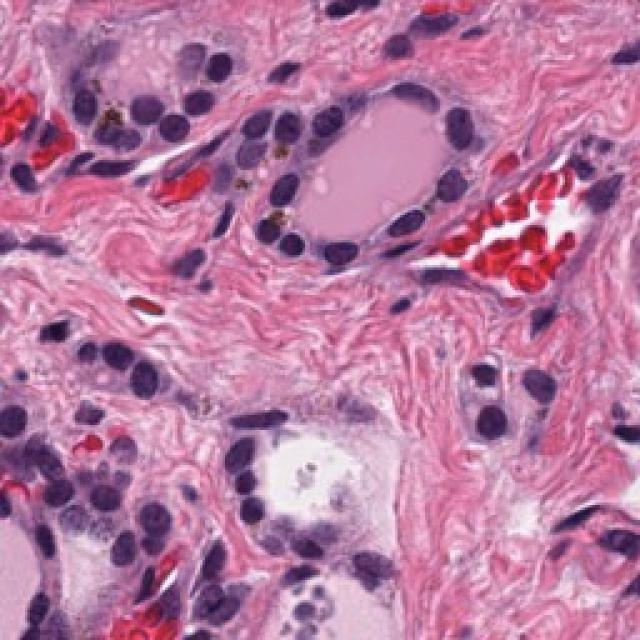normal: (308, 55, 370, 147), (118, 478, 187, 558), (405, 160, 484, 226), (368, 198, 436, 266), (431, 97, 503, 161), (85, 318, 145, 386), (217, 420, 284, 479), (136, 104, 200, 163), (216, 477, 276, 537), (312, 230, 370, 291), (253, 162, 317, 214), (228, 99, 280, 157), (126, 339, 172, 401), (273, 89, 311, 156), (274, 231, 326, 276), (185, 70, 226, 122), (241, 215, 283, 258)
